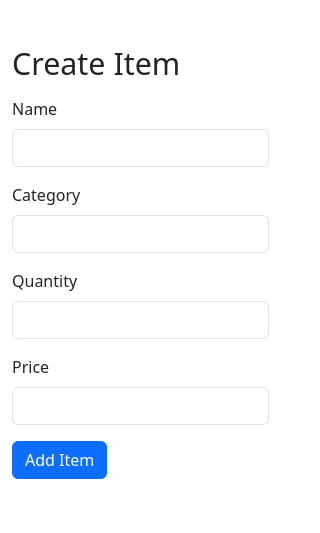
Scenario: CreateItem Component › submits the form successfully
Note: Fill out the form
Step 1. Type "Test Item" into the field labelled "Name" → (140, 148), box [12,129,269,167]
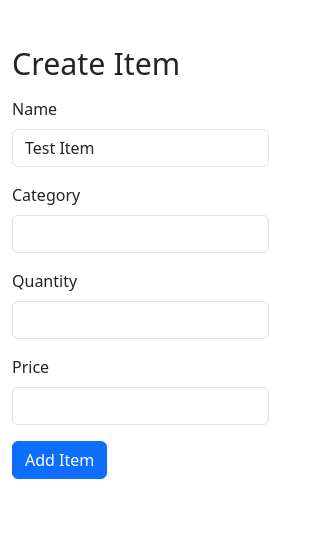
Step 2. Type "Test Category" into the field labelled "Category" → (140, 234), box [12,215,269,253]
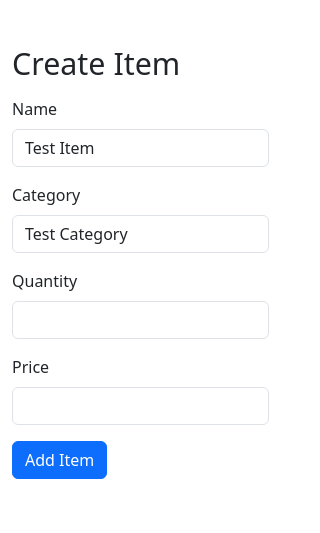
Step 3. Type "10" into the number field labelled "Quantity" → (140, 320), box [12,301,269,339]
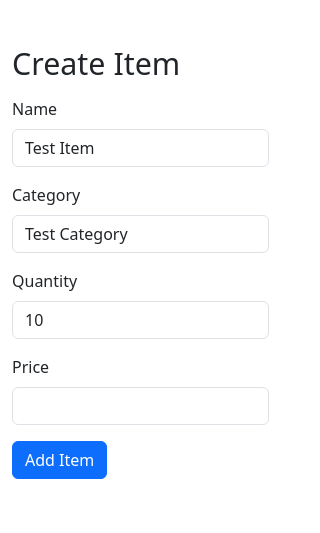
Step 4. Type "19.99" into the number field labelled "Price" → (140, 406), box [12,387,269,425]
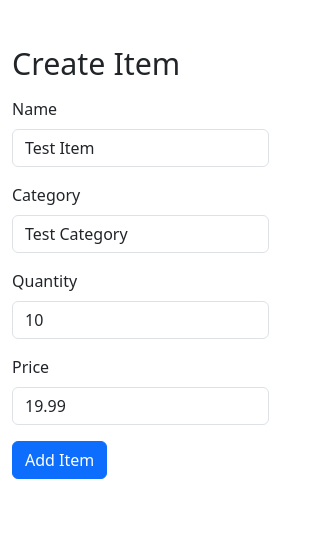
Note: Submit the form
Step 5. Click the button "Add Item" → (60, 460), box [12,441,107,479]
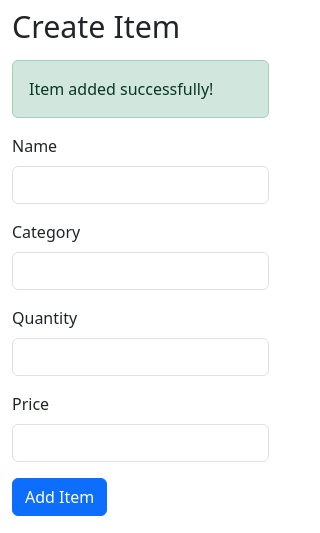
expect the text "Item added successfully!" is shown: met, box [12,60,269,118]
expect the field labelled "Name" is empty: met, box [12,166,269,204]
expect the field labelled "Category" is empty: met, box [12,252,269,290]
